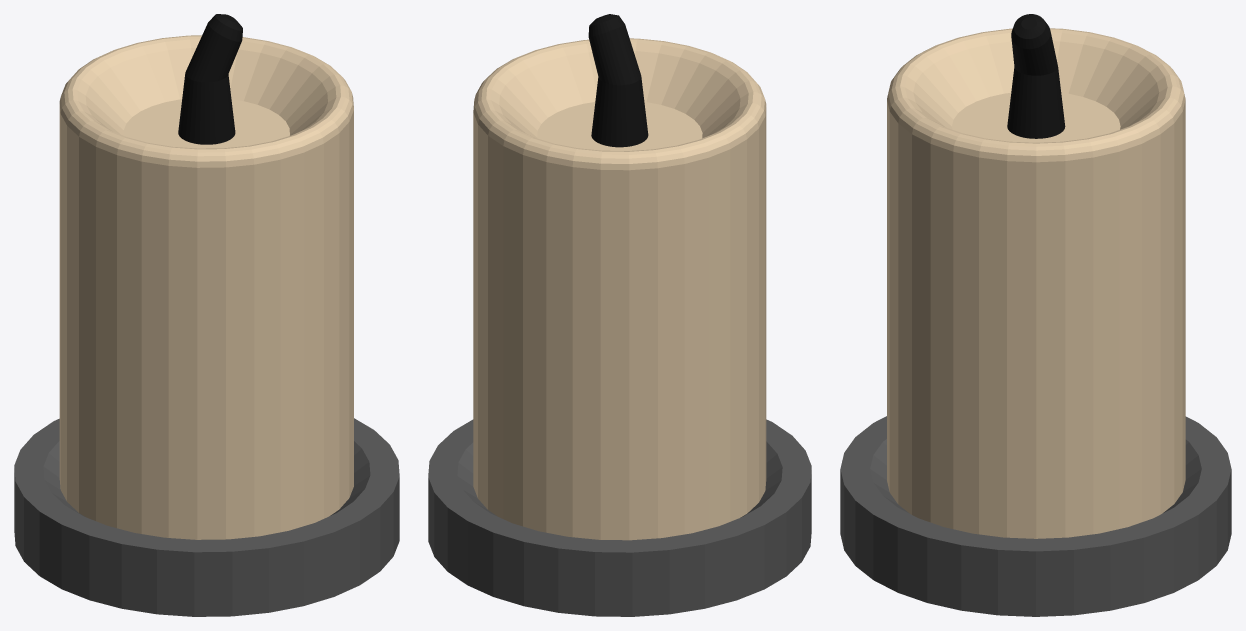
Rendered from Candle.fbx.
The picture shows the model from 3 angles, left to right: view 1: azimuth 30°, elevation 25°; view 2: azimuth 150°, elevation 25°; view 3: azimuth 270°, elevation 25°; orthographic projection.
Parts seen in each view (by area): view 1: Cube.007; view 2: Cube.007; view 3: Cube.007.
Boxes of the visible parts, x1,y1,x2,y2 form: Cube.007: [14, 14, 399, 616]; Cube.007: [428, 14, 811, 616]; Cube.007: [840, 14, 1231, 616].
Bounding box in the file's own units: 50.15 × 74.13 × 50.15.
